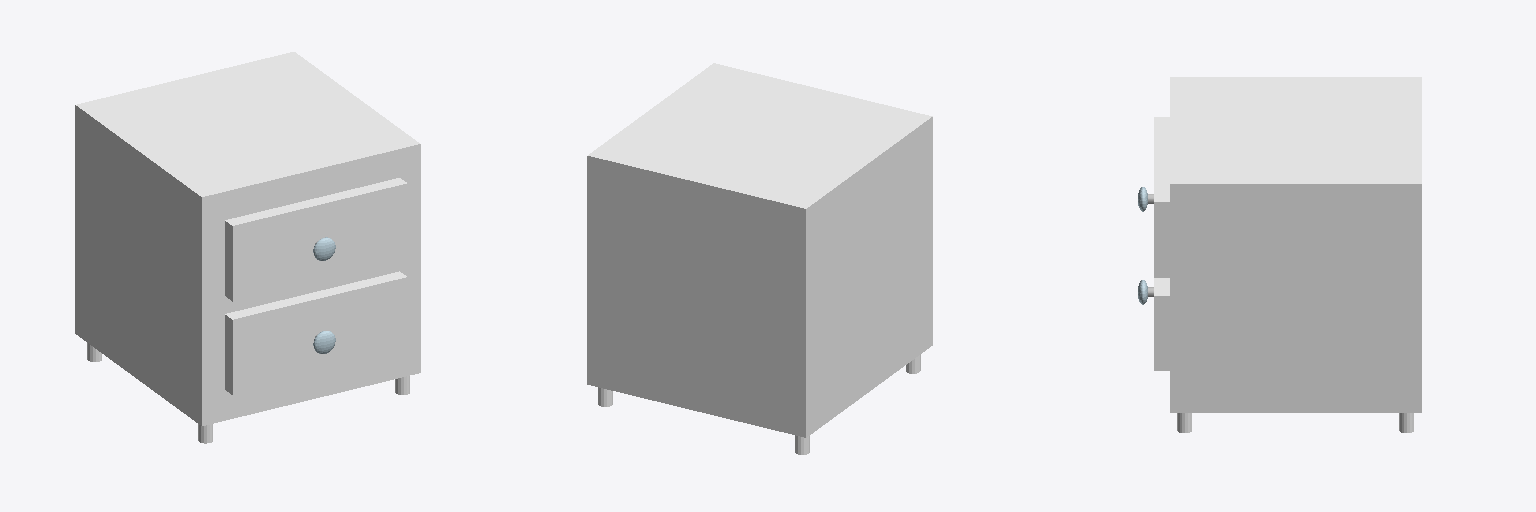
Rendered from 床头柜.obj.
3 views of the same model, side by side, from view 1: azimuth 30°, elevation 25°; view 2: azimuth 150°, elevation 25°; view 3: azimuth 270°, elevation 25° (orthographic).
Parts seen in each view (by area): view 1: 立方体, 立方体.2, 立方体.1; view 2: 立方体; view 3: 立方体, 立方体.1, 立方体.2, 圆柱.1_1.
Boxes of the visible parts, box(x1,y1,x2,y2) form: 立方体: box(75, 52, 420, 425); 立方体.2: box(225, 271, 407, 394); 立方体.1: box(225, 178, 407, 301); 立方体: box(587, 63, 932, 437); 立方体: box(1170, 77, 1421, 412); 立方体.1: box(1154, 117, 1169, 277); 立方体.2: box(1154, 278, 1169, 370); 圆柱.1_1: box(1177, 413, 1413, 432).
Size of the model in its own units: 200 by 220 by 225.